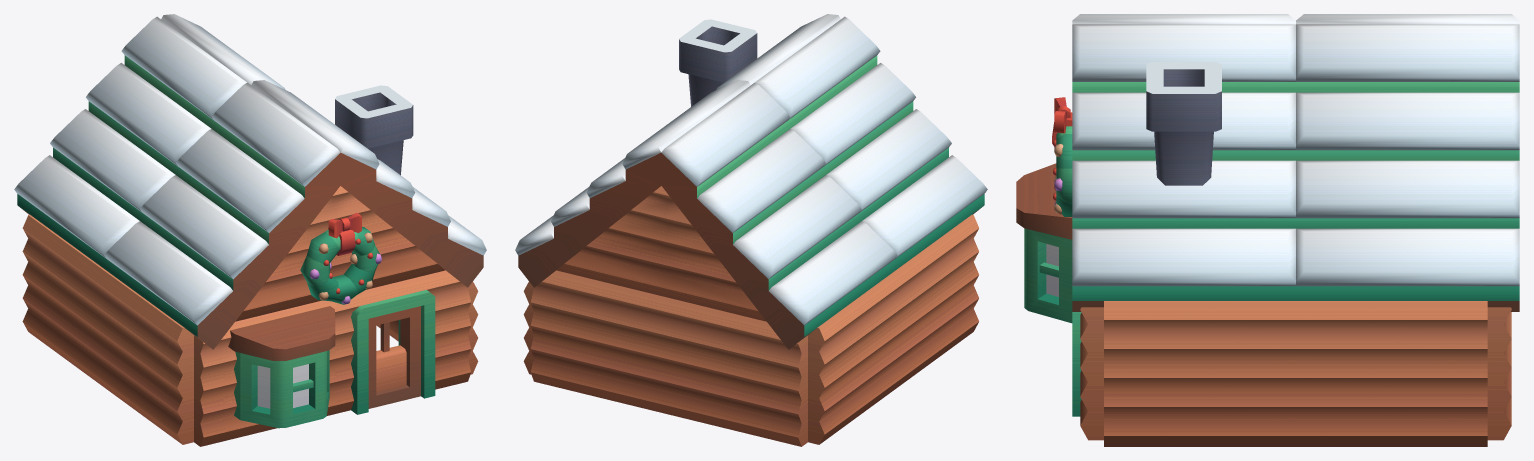
The model's file is Cabin.gltf.
The picture shows the model from 3 angles, left to right: view 1: azimuth 30°, elevation 25°; view 2: azimuth 150°, elevation 25°; view 3: azimuth 270°, elevation 25°; orthographic projection. The views are drawn at different scales.
Parts seen in each view (by area): view 1: cabin-roof-snow, cabin-roof-snow4, cabin-roof-snow-chimney, cabin-window-large, cabin-door-rotate, cabin-wall, cabin-wall6, cabin-corner-logs, wreath-decorated, door, cabin-wall-roof, cabin-wall-roof4 (+3 smaller); view 2: cabin-roof-snow4, cabin-roof-snow, cabin-wall8, cabin-wall7, cabin-roof-snow5, cabin-wall6, cabin-wall, cabin-roof-snow-chimney, cabin-wall-roof3, cabin-corner-logs6, cabin-wall-roof6, cabin-corner-logs5 (+1 smaller); view 3: cabin-roof-snow5, cabin-roof-snow-chimney, cabin-wall4, cabin-wall5, cabin-corner-logs5, cabin-corner-logs4, cabin-window-large, cabin-roof-snow, cabin-roof-snow4, wreath-decorated, cabin-door-rotate.
Part boxes in pixels (<box>): cabin-roof-snow: <box>104,82,340,349</box>; cabin-roof-snow4: <box>14,16,246,270</box>; cabin-roof-snow-chimney: <box>251,80,486,287</box>; cabin-window-large: <box>222,300,337,441</box>; cabin-door-rotate: <box>334,270,448,414</box>; cabin-wall: <box>100,271,171,435</box>; cabin-wall6: <box>35,224,106,387</box>; cabin-corner-logs: <box>164,318,225,446</box>; wreath-decorated: <box>300,212,381,304</box>; door: <box>368,306,420,408</box>; cabin-wall-roof: <box>334,186,445,289</box>; cabin-wall-roof4: <box>235,191,337,321</box>; cabin-roof-snow4: <box>661,82,897,349</box>; cabin-roof-snow: <box>755,16,987,270</box>; cabin-wall8: <box>553,270,667,414</box>; cabin-wall7: <box>664,297,779,441</box>; cabin-roof-snow5: <box>515,80,750,287</box>; cabin-wall6: <box>830,271,901,435</box>; cabin-wall: <box>895,224,966,387</box>; cabin-roof-snow-chimney: <box>679,14,840,106</box>; cabin-wall-roof3: <box>556,186,667,297</box>; cabin-corner-logs6: <box>776,318,837,446</box>; cabin-wall-roof6: <box>664,191,766,321</box>; cabin-corner-logs5: <box>523,271,555,386</box>; cabin-roof-snow5: <box>1296,24,1519,311</box>; cabin-roof-snow-chimney: <box>1072,24,1295,311</box>; cabin-wall4: <box>1136,301,1295,446</box>; cabin-wall5: <box>1296,301,1455,446</box>; cabin-corner-logs5: <box>1455,301,1511,446</box>; cabin-corner-logs4: <box>1080,301,1135,446</box>; cabin-window-large: <box>1016,163,1072,323</box>; cabin-roof-snow: <box>1072,14,1295,24</box>; cabin-roof-snow4: <box>1296,14,1519,24</box>; wreath-decorated: <box>1052,97,1072,216</box>; cabin-door-rotate: <box>1072,312,1084,416</box>.
Size of the model in its own units: 2.7 by 2.34 by 3.15.
8 materials, 8 textured.
